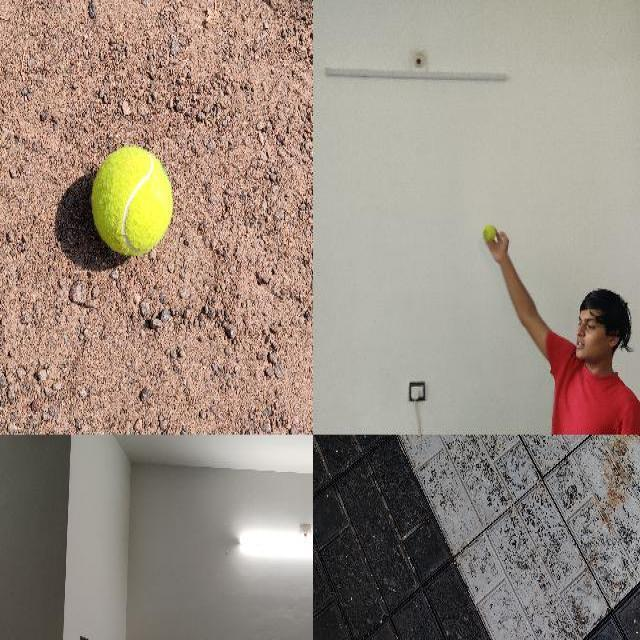tennis-ball: (92, 147, 172, 253), (483, 224, 496, 240)
